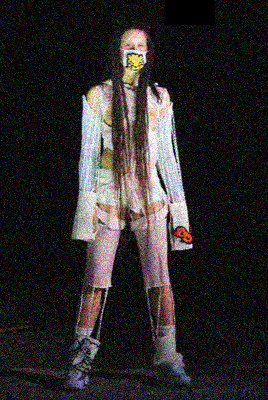with_mask: (119, 38, 148, 73)
